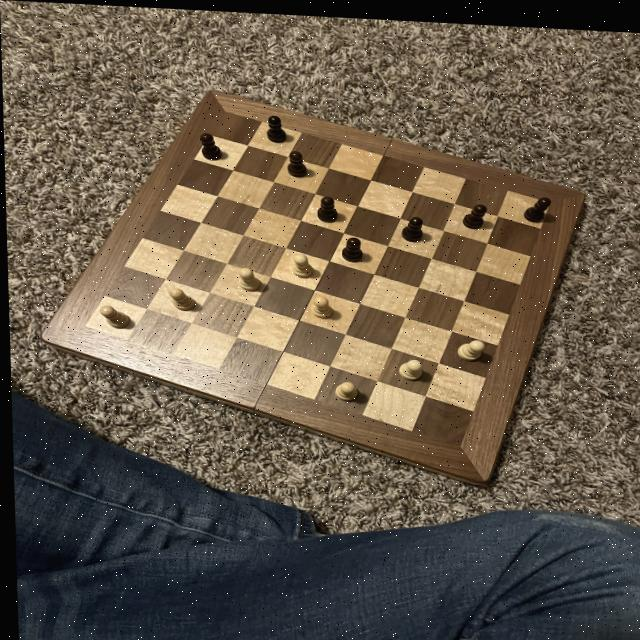black-knight: (195, 129, 227, 162), (521, 188, 554, 219), (261, 111, 292, 142), (460, 195, 489, 225), (337, 232, 367, 261), (398, 211, 426, 238), (314, 190, 339, 220), (286, 145, 310, 175)
white-knight: (95, 301, 133, 331), (391, 353, 426, 380), (232, 262, 263, 291), (163, 284, 196, 311), (453, 331, 485, 358), (287, 248, 315, 277), (307, 290, 334, 317), (330, 376, 360, 400)
